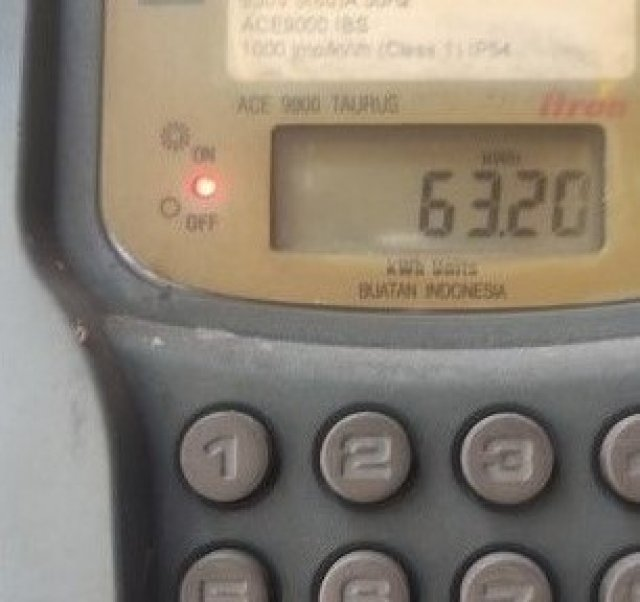box: (274, 127, 604, 252)
